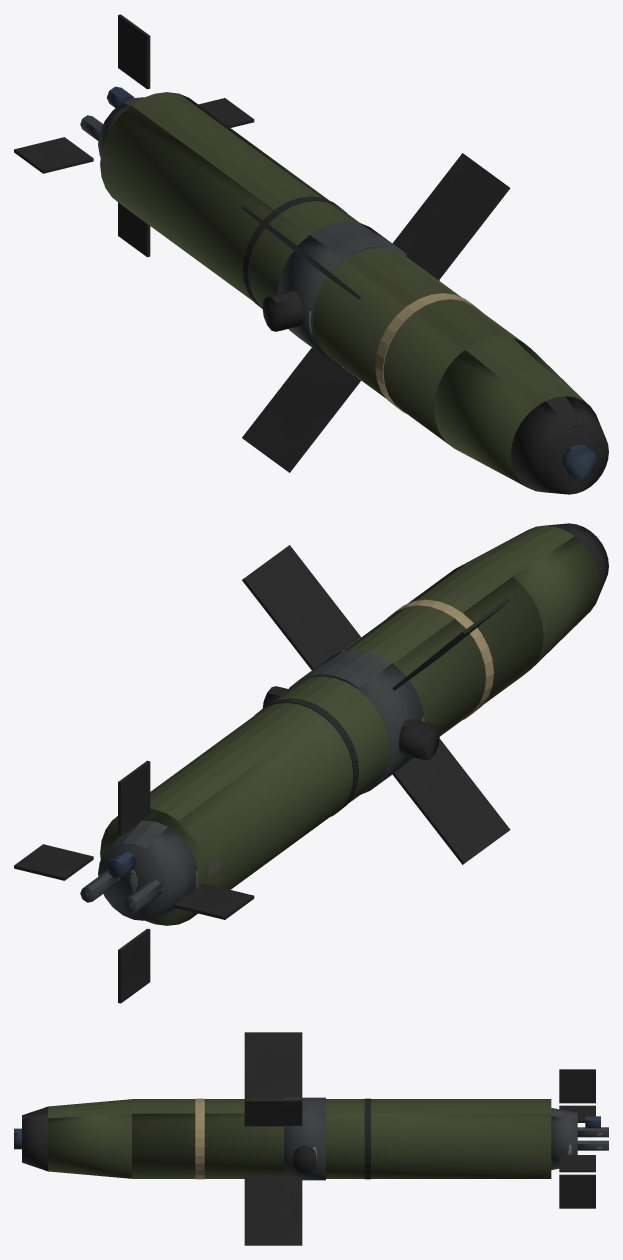
Rendered from tow_missile.glb.
The picture shows the model from 3 angles, top to bottom: view 1: azimuth 30°, elevation 25°; view 2: azimuth 150°, elevation 25°; view 3: azimuth 270°, elevation 25°; orthographic projection. The views are drawn at different scales.
Visible parts, largest first — view 1: TOW_M_Body; view 2: TOW_M_Body; view 3: TOW_M_Body.
Boxes of the visible parts, bbox=[...] form: TOW_M_Body: bbox=[14, 14, 608, 494]; TOW_M_Body: bbox=[14, 523, 608, 1003]; TOW_M_Body: bbox=[14, 1032, 608, 1245].
Size of the model in its own units: 0.3083 by 0.3083 by 1.13.
5 materials, 5 textured.
